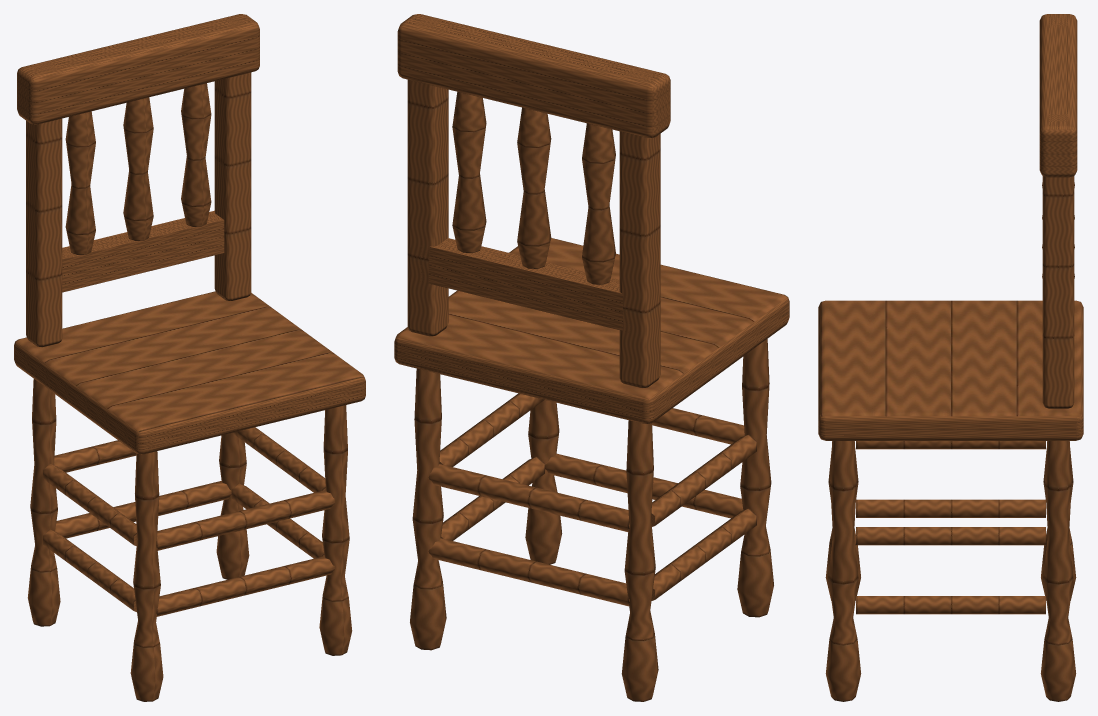
The model's file is wild-west-frontier-town-saloon-chair-66e00655__30115.glb.
3 renders of one model, left to right at view 1: azimuth 30°, elevation 25°; view 2: azimuth 150°, elevation 25°; view 3: azimuth 270°, elevation 25°, orthographic. The views are drawn at different scales.
Visible parts, largest first — view 1: saloon-chair; view 2: saloon-chair; view 3: saloon-chair.
Part boxes in pixels (box(x1,y1,x2,y2)): saloon-chair: box(14, 14, 365, 701); saloon-chair: box(394, 14, 789, 701); saloon-chair: box(818, 14, 1083, 701).
Bounding box in the file's own units: 0.4399 × 1.01 × 0.42.
1 material, 1 textured.
